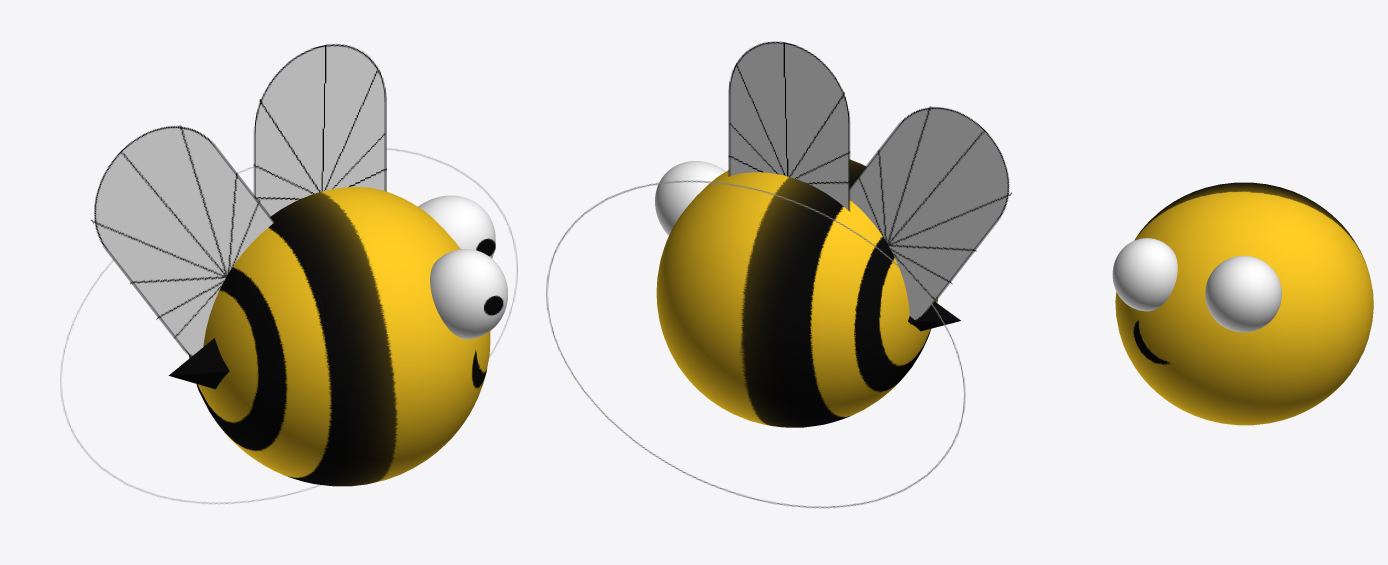
File: Abeja 1.glb
3 views of the same model, side by side, from view 1: azimuth 30°, elevation 25°; view 2: azimuth 150°, elevation 25°; view 3: azimuth 270°, elevation 25° (orthographic). The views are drawn at different scales.
Parts seen in each view (by area): view 1: mesh_id94, mesh_id102, mesh_id109, mesh_id101, mesh_id99, mesh_id39, mesh_id377; view 2: mesh_id94, mesh_id102, mesh_id109, mesh_id99, mesh_id39, mesh_id377; view 3: mesh_id94, mesh_id99, mesh_id101.
Part boxes in pixels (x1=…): mesh_id94: x1=189, y1=187, x2=490, y2=486; mesh_id102: x1=91, y1=125, x2=274, y2=356; mesh_id109: x1=253, y1=44, x2=386, y2=216; mesh_id101: x1=430, y1=249, x2=507, y2=339; mesh_id99: x1=418, y1=195, x2=495, y2=258; mesh_id39: x1=60, y1=148, x2=517, y2=504; mesh_id377: x1=168, y1=338, x2=229, y2=389; mesh_id94: x1=656, y1=159, x2=937, y2=427; mesh_id102: x1=849, y1=106, x2=1011, y2=324; mesh_id109: x1=728, y1=41, x2=850, y2=211; mesh_id99: x1=655, y1=161, x2=725, y2=235; mesh_id39: x1=546, y1=180, x2=965, y2=508; mesh_id377: x1=908, y1=302, x2=960, y2=331; mesh_id94: x1=1115, y1=182, x2=1373, y2=425; mesh_id99: x1=1205, y1=255, x2=1281, y2=332; mesh_id101: x1=1112, y1=238, x2=1177, y2=311.
Size of the model in its own units: 0.45 by 0.398 by 0.2323.
Materials: 9 (9 with a texture image).
